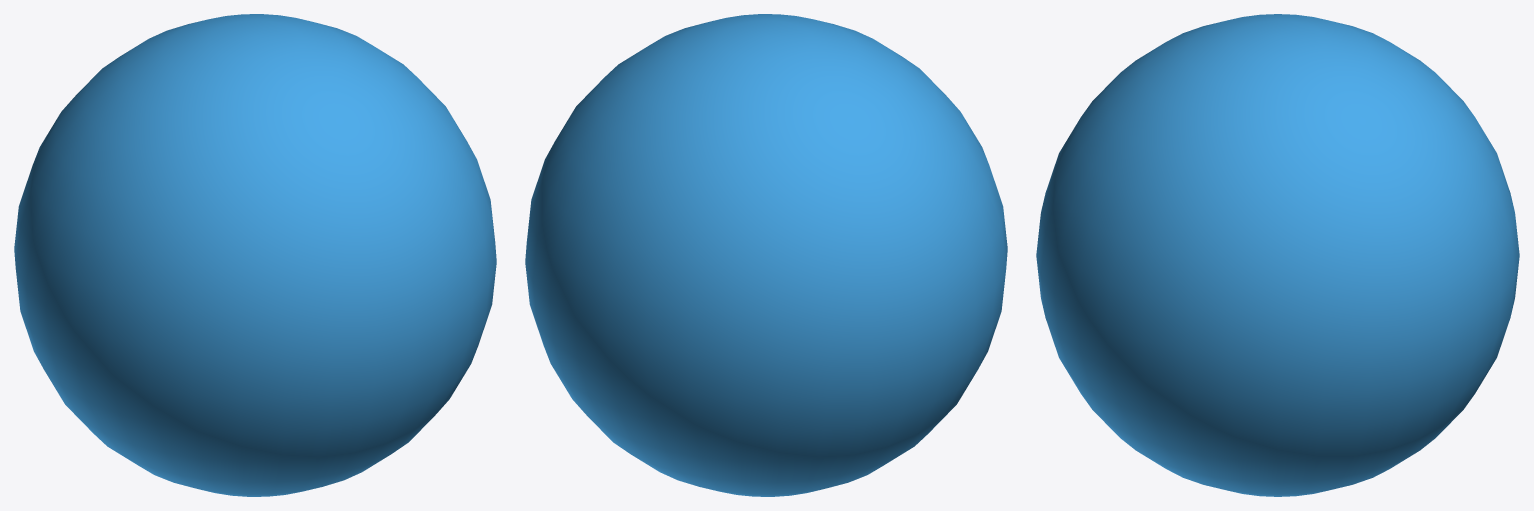
The model's file is creeperv2.fbx.
The picture shows the model from 3 angles, left to right: view 1: azimuth 30°, elevation 25°; view 2: azimuth 150°, elevation 25°; view 3: azimuth 270°, elevation 25°; orthographic projection.
Visible parts, largest first — view 1: Kostka.024; view 2: Kostka.024; view 3: Kostka.024.
Part boxes in pixels (x1,y1,x2,y2): Kostka.024: [14, 14, 496, 496]; Kostka.024: [525, 14, 1007, 496]; Kostka.024: [1036, 14, 1519, 496].
Bounding box in the file's own units: 4000 × 4000 × 4000.
